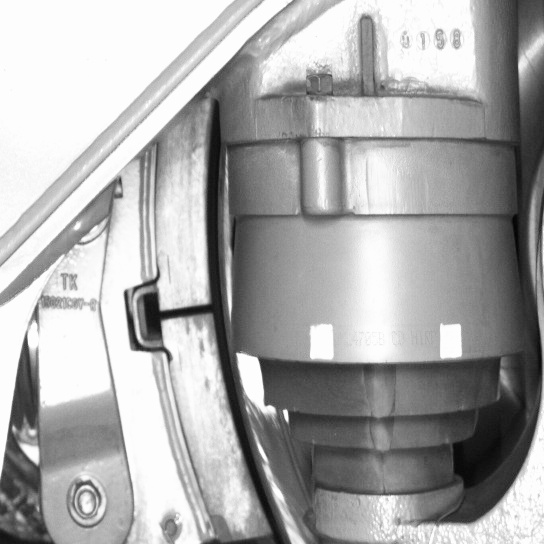KnifeSwitch: (158, 139, 292, 542)
